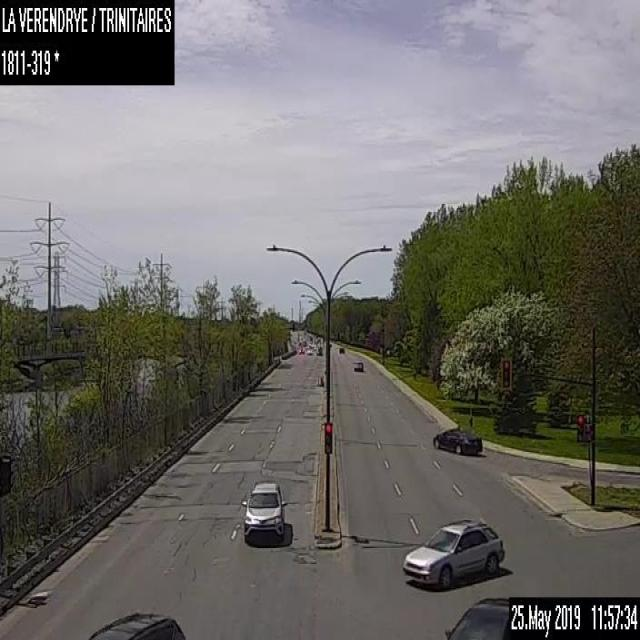vehicle: (401, 519, 504, 588), (239, 480, 286, 541), (444, 594, 507, 638), (89, 610, 186, 638), (432, 425, 483, 452), (353, 360, 363, 371), (316, 346, 322, 354), (306, 346, 312, 354), (298, 346, 304, 353), (338, 346, 344, 353)
